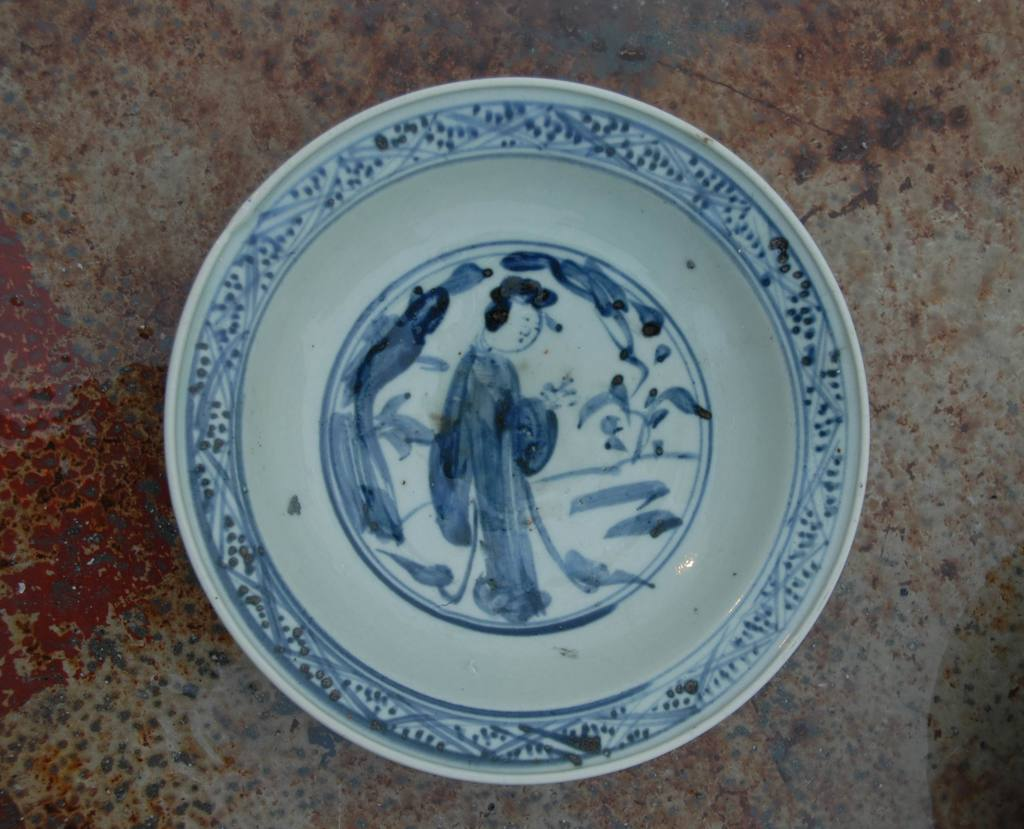plate: (163, 76, 871, 785)
